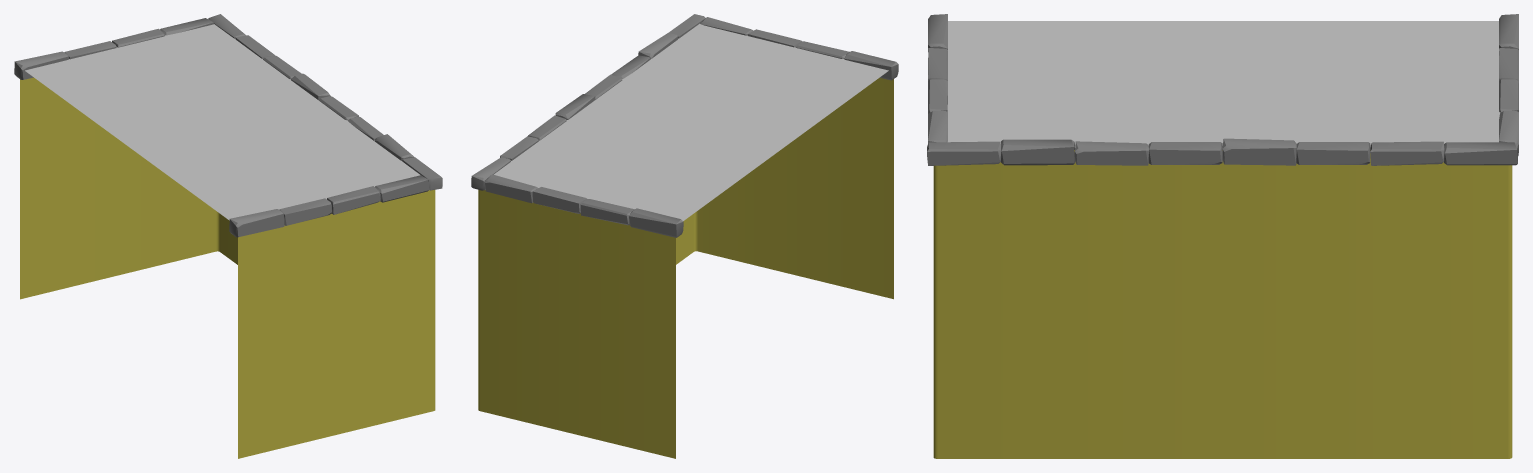
File: SM_platform_attachment.fbx
3 views of the same model, side by side, from view 1: azimuth 30°, elevation 25°; view 2: azimuth 150°, elevation 25°; view 3: azimuth 270°, elevation 25° (orthographic). The views are drawn at different scales.
Parts seen in each view (by area): view 1: Plane006; view 2: Plane006; view 3: Plane006.
Part boxes in pixels (x1,y1,x2,y2): Plane006: (14, 14, 442, 458); Plane006: (471, 14, 898, 458); Plane006: (927, 14, 1518, 458).
Size of the model in its own units: 137 by 151 by 257.
